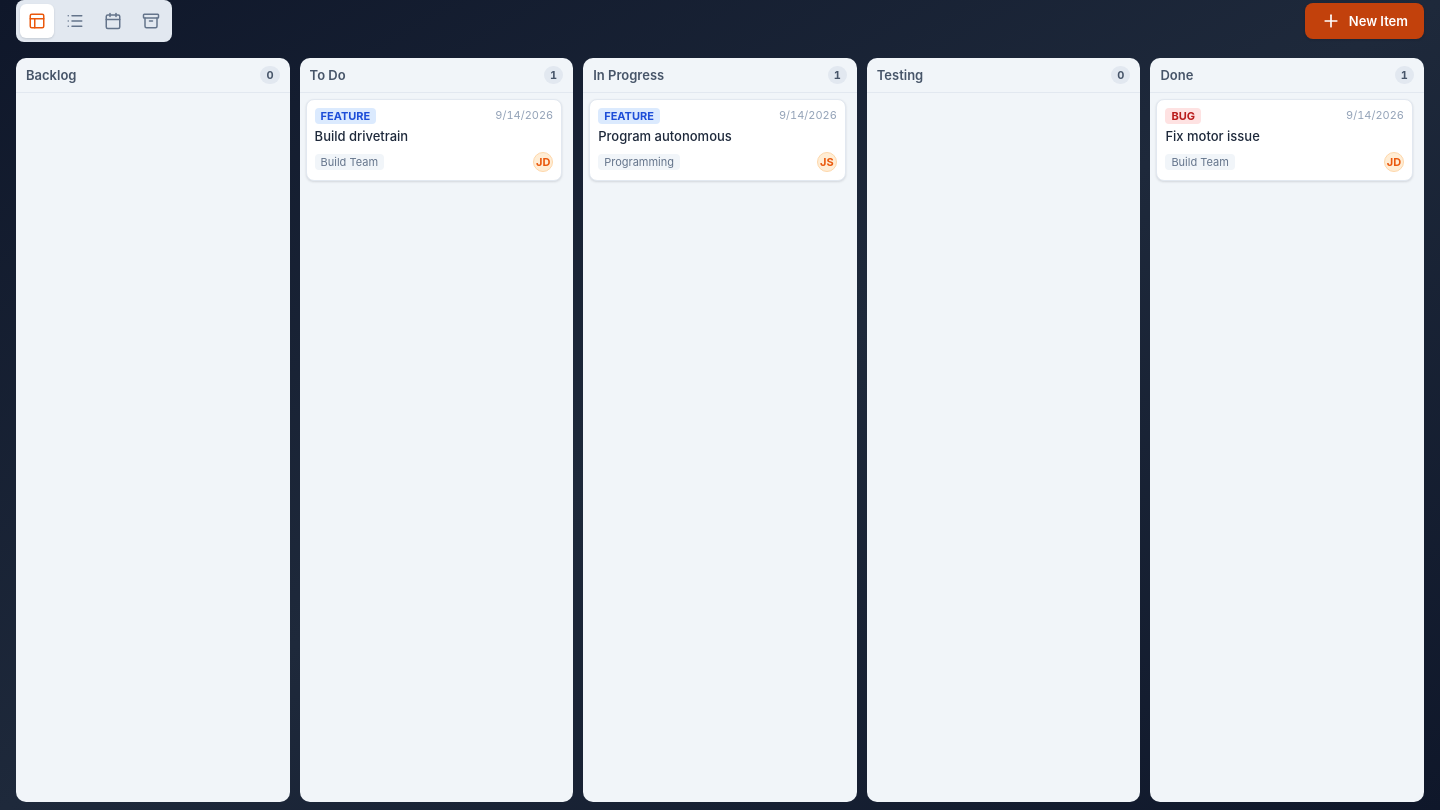
Test: SprintPlanning › Task Interaction › opens task details when clicking a task
The width and height of the screenshot is (1440, 810).
Click the heading "Build drivetrain".
click(361, 136)  # box [315,128,408,144]
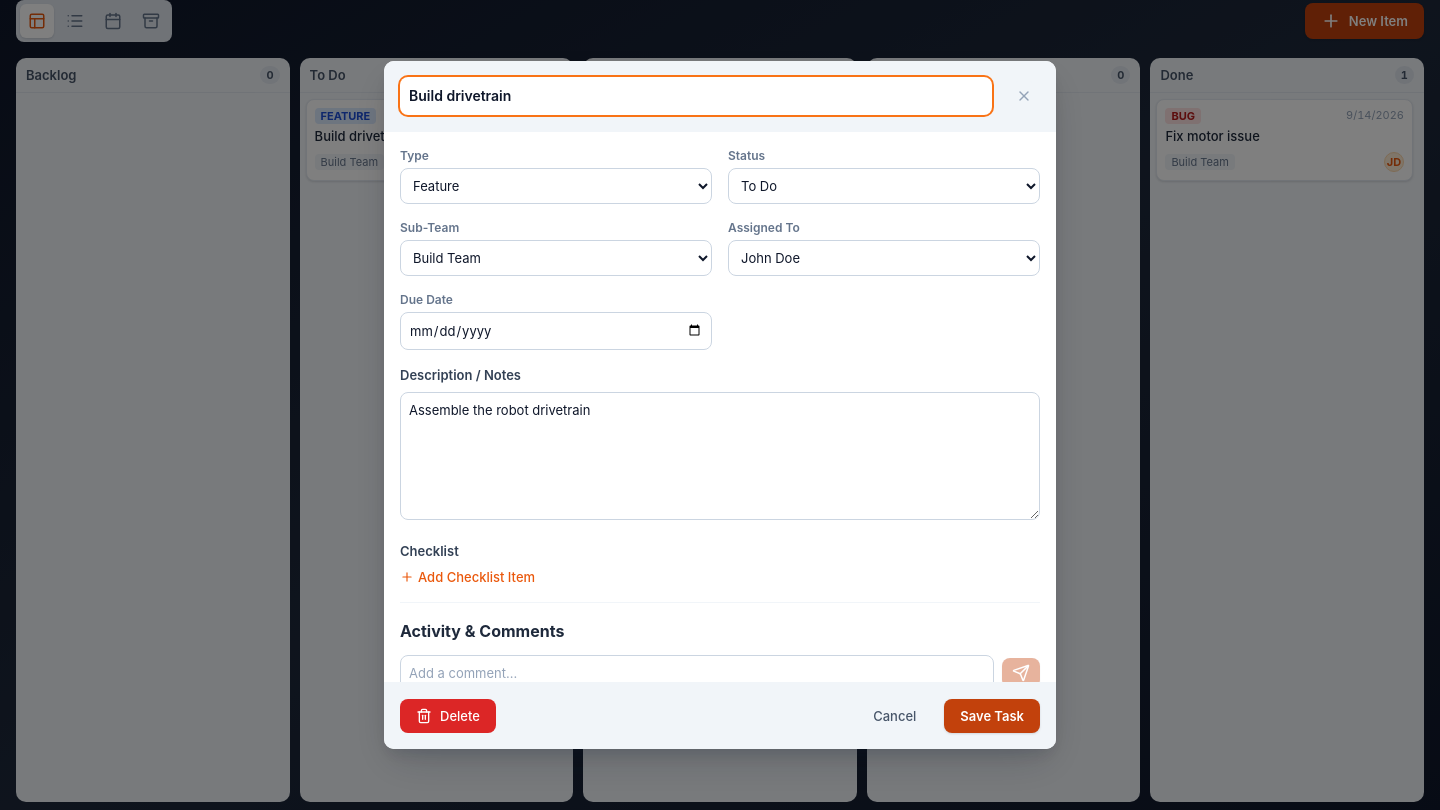
expect the field with test id "task-title-input" holds "Build drivetrain": met, box [400,77,992,115]
expect the heading "Activity & Comments" is shown: met, box [400,621,564,641]
